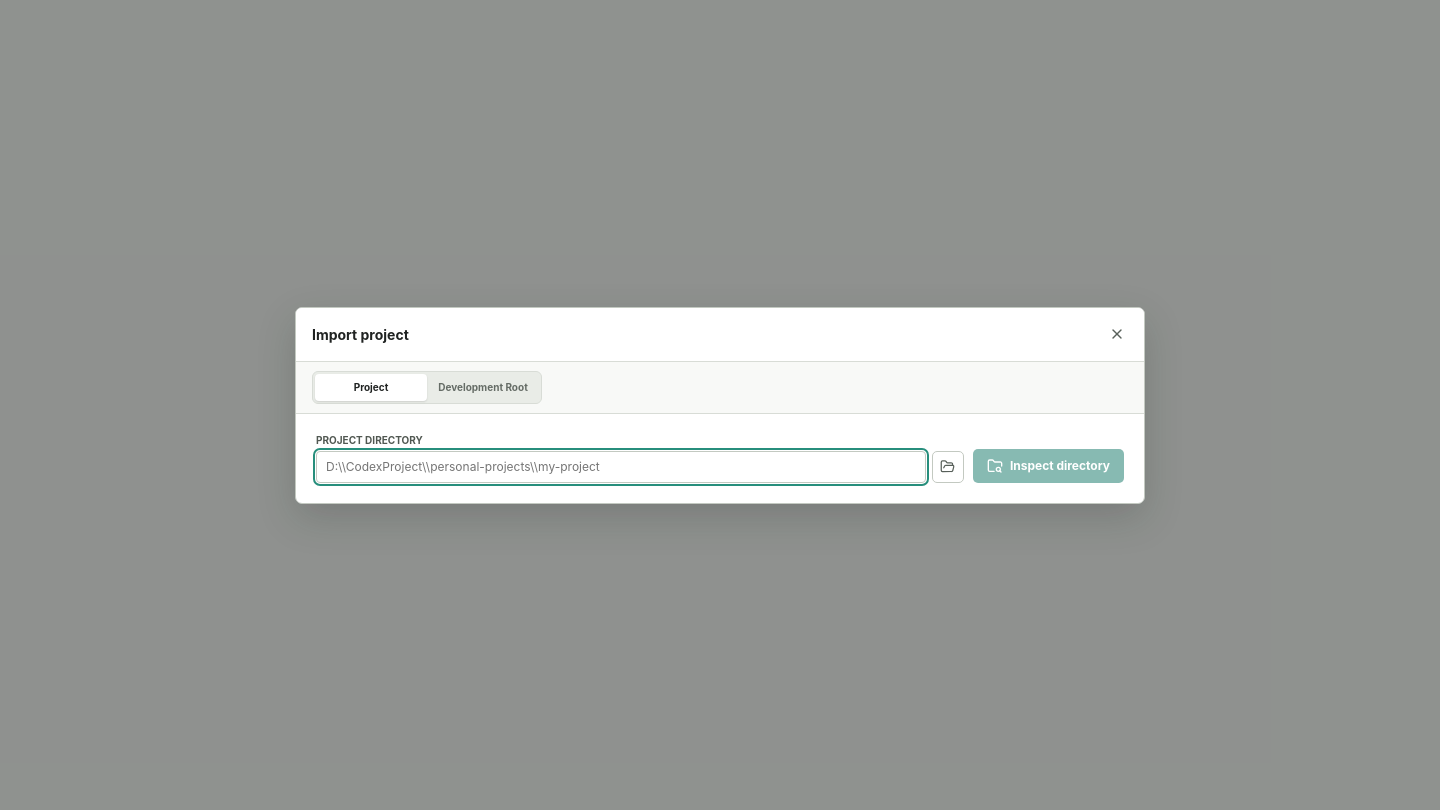
Scenario: ProjectModal safe discovery imports › marks runtime-observed launch details for review
Type "D:\\projects\\web-app" into the field labelled "Project directory" at (621,466), box [316,450,926,482]
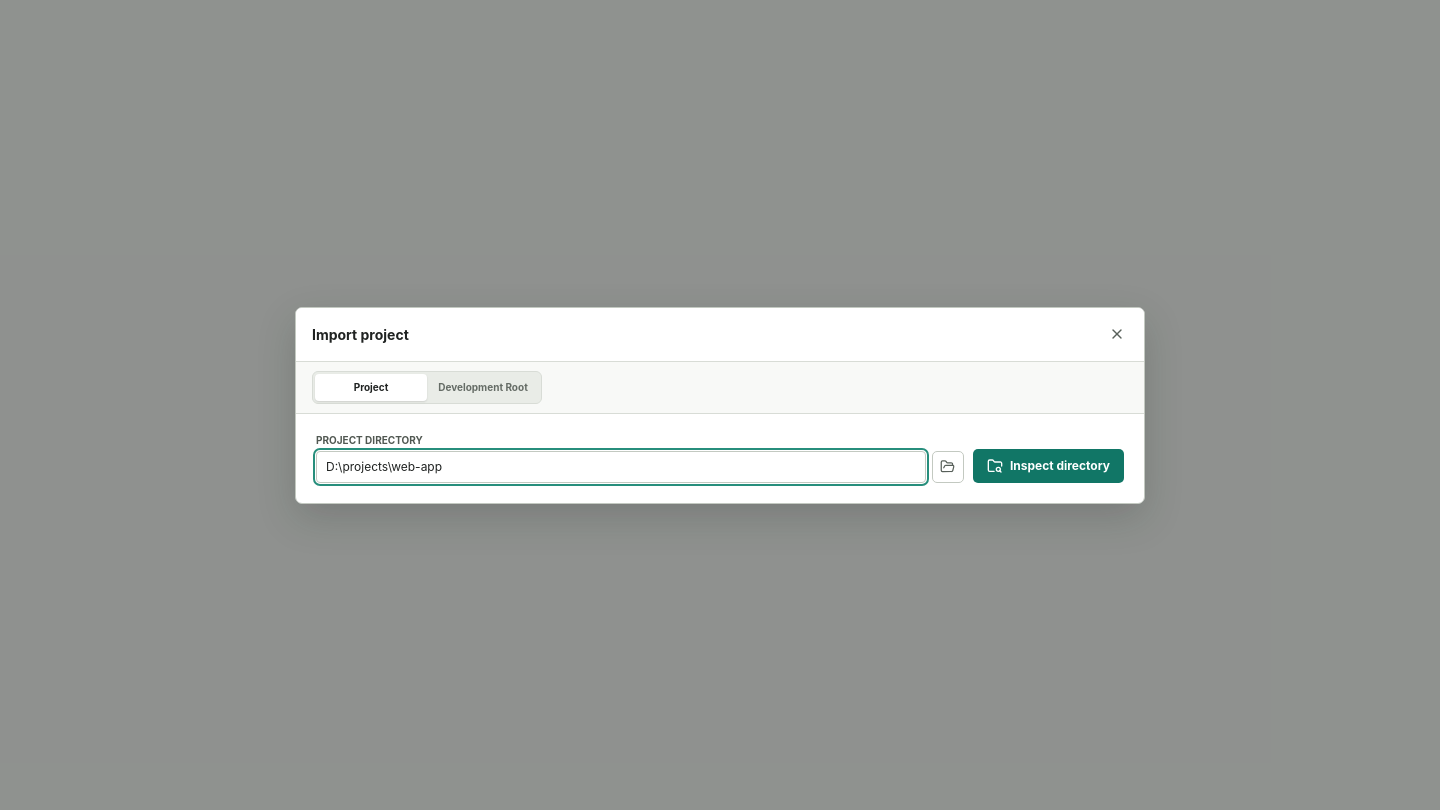
Click the button "Inspect directory" at (1048,466), box [973,448,1124,482]
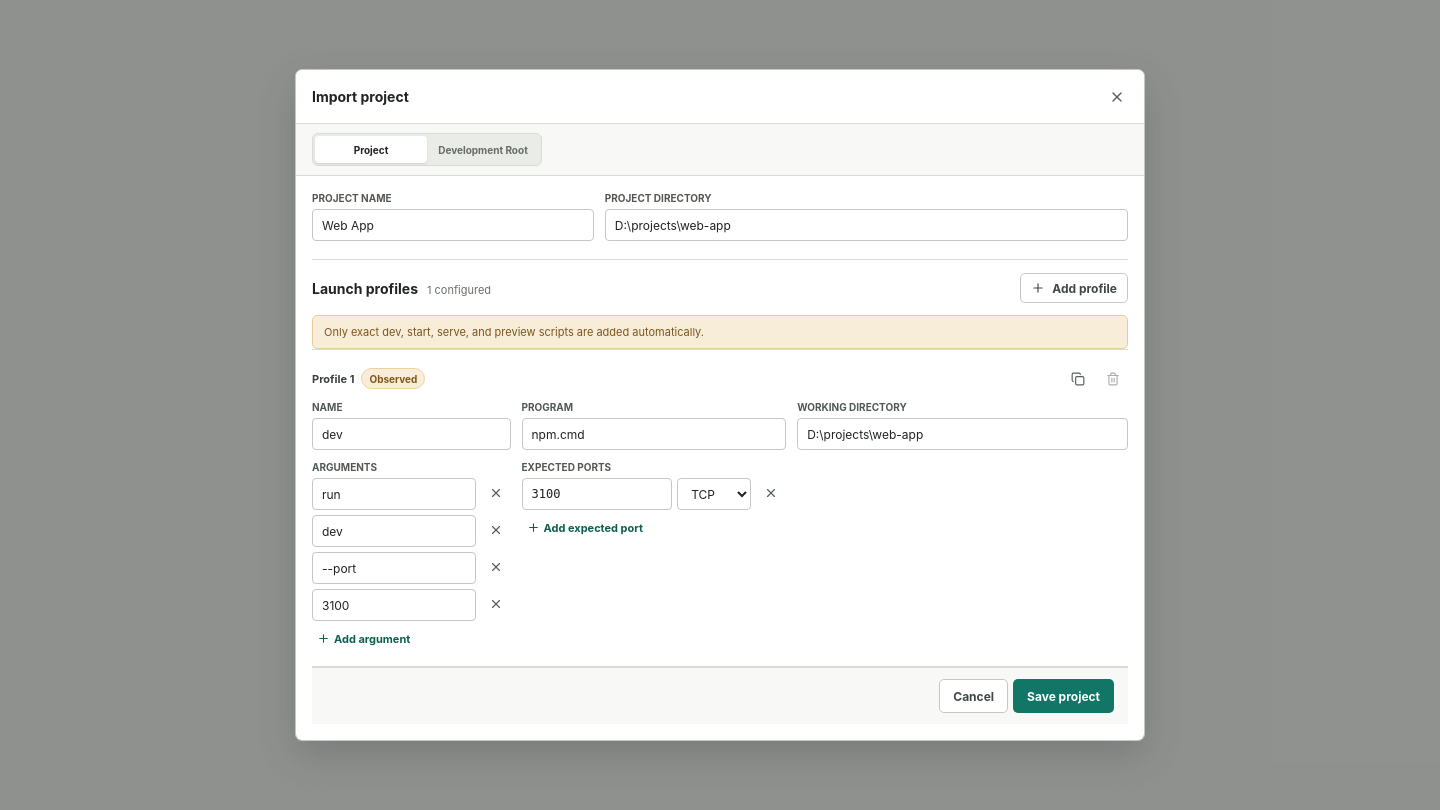
Check: the text "Observed" is shown, box [361,368,425,389]
Check: the number field named "Profile 1 expected port 1" holds "3100", box [522,478,672,510]
Check: the field showing "--port" is shown, box [312,552,476,584]
